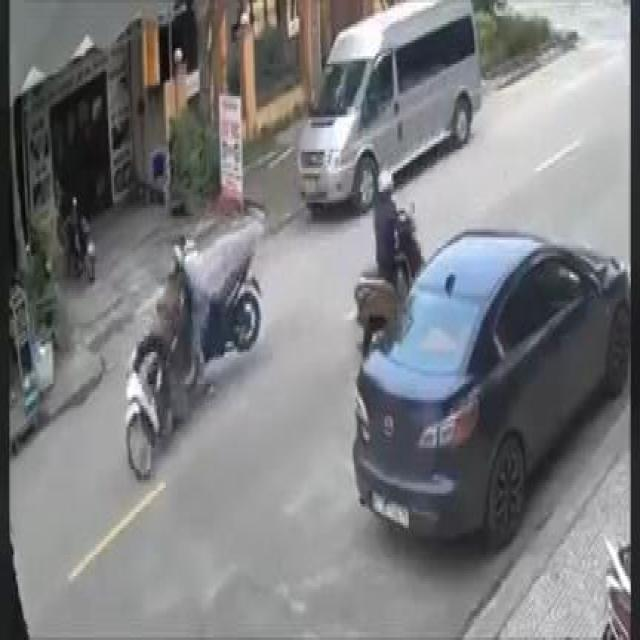accident: (118, 207, 272, 495)
